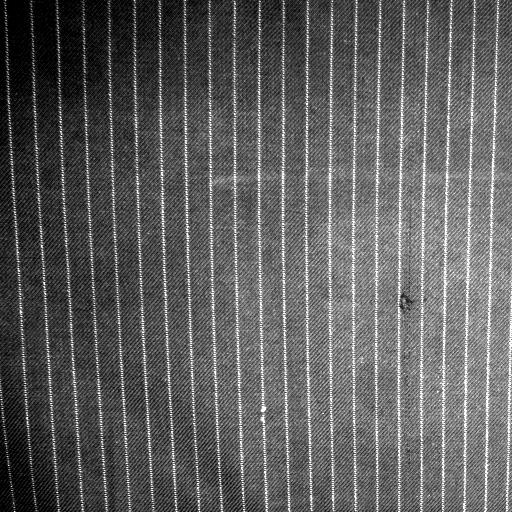fabric_hole: (396, 289, 416, 323)
